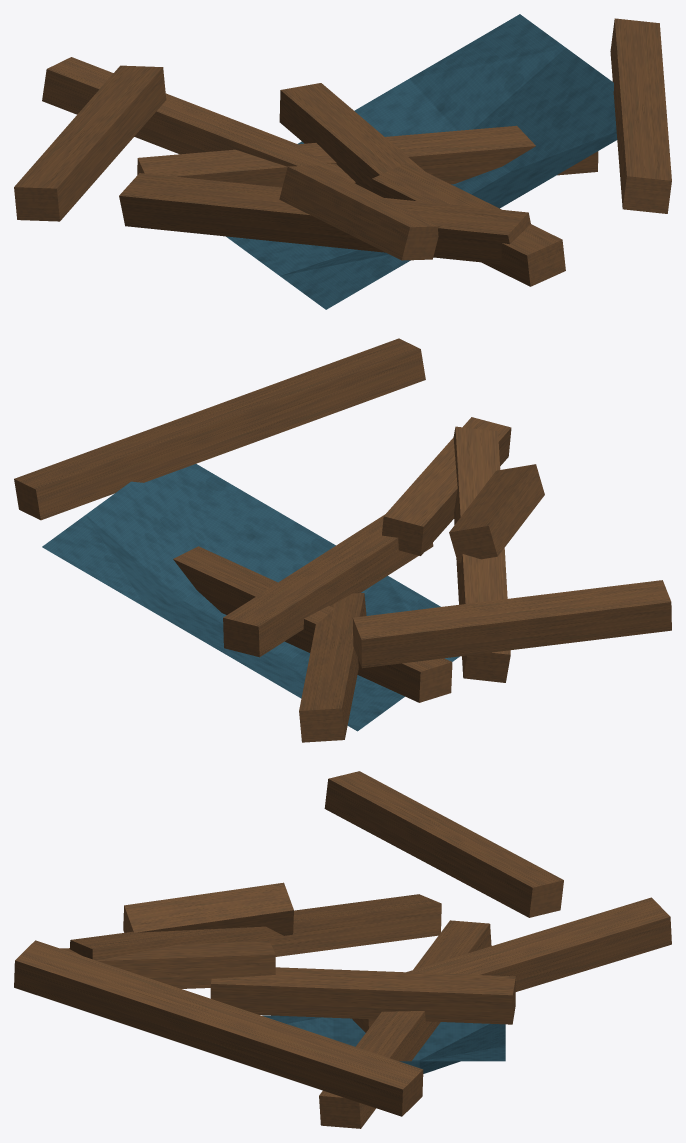
The model's file is en-023_storm_damage_debris_set__loose_cloth.obj.
3 renders of one model, top to bottom at view 1: azimuth 30°, elevation 25°; view 2: azimuth 150°, elevation 25°; view 3: azimuth 270°, elevation 25°, orthographic. The views are drawn at different scales.
Parts seen in each view (by area): view 1: en-023_storm_damage_debris_set__loose_cloth; view 2: en-023_storm_damage_debris_set__loose_cloth; view 3: en-023_storm_damage_debris_set__loose_cloth.
Part boxes in pixels (box(x1,y1,x2,y2)): en-023_storm_damage_debris_set__loose_cloth: box(14, 14, 671, 309); en-023_storm_damage_debris_set__loose_cloth: box(14, 338, 671, 742); en-023_storm_damage_debris_set__loose_cloth: box(14, 771, 671, 1128).
Size of the model in its own units: 1.53 by 0.3758 by 1.4.
2 materials, 2 textured.
